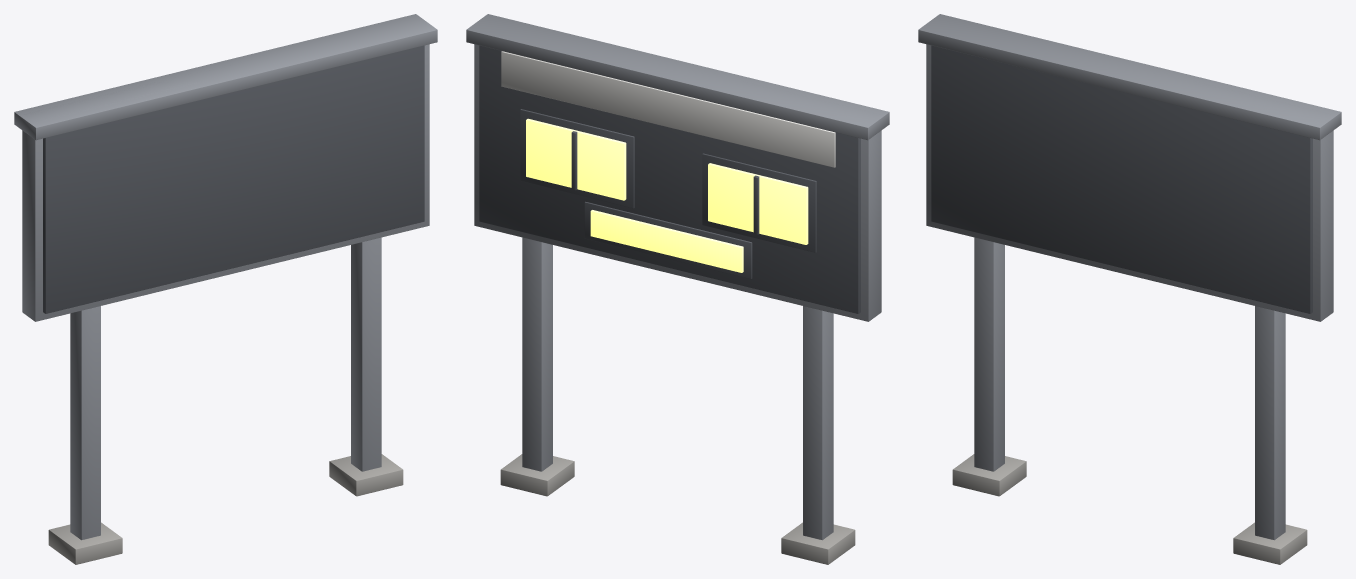
The model's file is th44_spielstand.glb.
The picture shows the model from 3 angles, left to right: view 1: azimuth 30°, elevation 25°; view 2: azimuth 150°, elevation 25°; view 3: azimuth 330°, elevation 25°; orthographic projection.
Visible parts, largest first — view 1: Cube.004, Cube.015, Cube.005, Cube.002, Cube, Cube.003, Cube.001; view 2: Cube.004, Cube.015, Cube.006, Cube.005, Cube.002, Cube, Cube.011, Cube.008, Cube.014, Cube.010, Cube.007, Cube.013 (+2 smaller); view 3: Cube.004, Cube.015, Cube.005, Cube, Cube.002, Cube.001, Cube.003.
Boxes of the visible parts, <box> form: Cube.004: <box>43,45,424,313</box>; Cube.015: <box>14,14,437,140</box>; Cube.005: <box>22,44,429,321</box>; Cube.002: <box>351,237,381,471</box>; Cube: <box>70,306,100,540</box>; Cube.003: <box>329,454,403,496</box>; Cube.001: <box>48,522,122,564</box>; Cube.004: <box>479,45,860,313</box>; Cube.015: <box>466,14,889,140</box>; Cube.006: <box>501,51,835,167</box>; Cube.005: <box>474,44,881,321</box>; Cube.002: <box>522,237,552,471</box>; Cube: <box>803,306,833,540</box>; Cube.011: <box>526,118,626,200</box>; Cube.008: <box>708,163,808,244</box>; Cube.014: <box>590,210,743,272</box>; Cube.010: <box>520,109,634,208</box>; Cube.007: <box>702,153,816,252</box>; Cube.013: <box>584,201,752,278</box>; Cube.004: <box>931,45,1312,313</box>; Cube.015: <box>918,14,1341,140</box>; Cube.005: <box>926,44,1333,321</box>; Cube: <box>974,237,1004,471</box>; Cube.002: <box>1255,306,1285,540</box>; Cube.001: <box>952,454,1026,496</box>; Cube.003: <box>1233,522,1307,564</box>.
Bounding box in the file's own units: 5.3 × 5.6 × 0.62.
